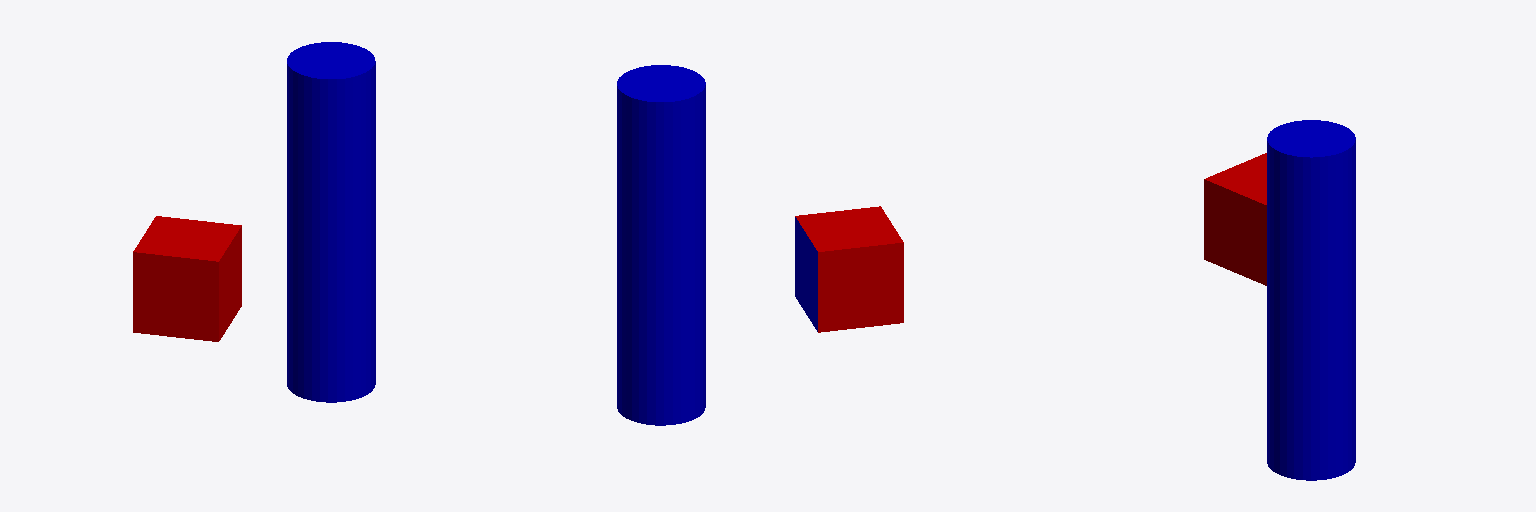
Rendered from Simple2Object.obj.
3 renders of one model, left to right at view 1: azimuth 30°, elevation 25°; view 2: azimuth 150°, elevation 25°; view 3: azimuth 270°, elevation 25°, orthographic.
Visible parts, largest first — view 1: Cylinder, Cube; view 2: Cylinder, Cube; view 3: Cylinder, Cube.
Boxes of the visible parts, <box> form: Cylinder: <box>287,42,375,402</box>; Cube: <box>133,216,241,341</box>; Cylinder: <box>617,65,705,425</box>; Cube: <box>795,206,903,332</box>; Cylinder: <box>1267,120,1355,480</box>; Cube: <box>1204,153,1266,285</box>.
Size of the model in its own units: 6.73 by 8.03 by 3.41.